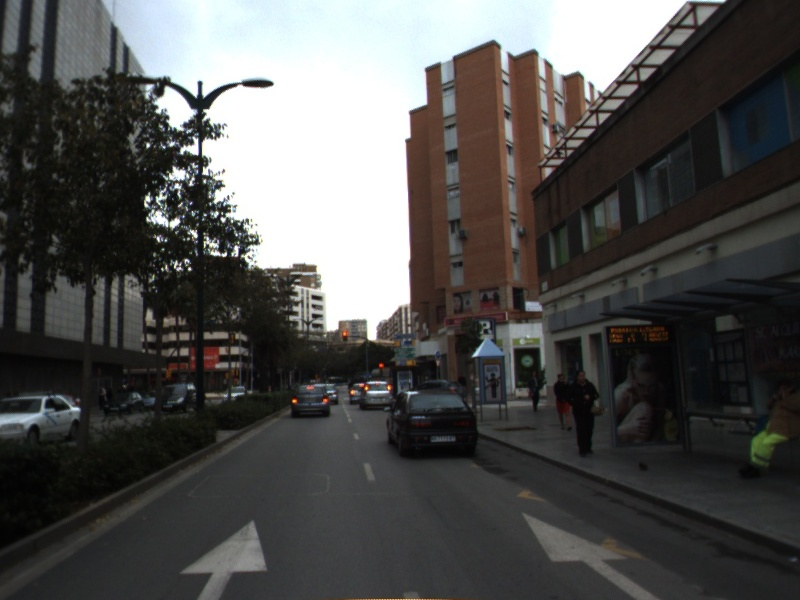STRAIGHT: (518, 509, 667, 600), (176, 515, 271, 600)
